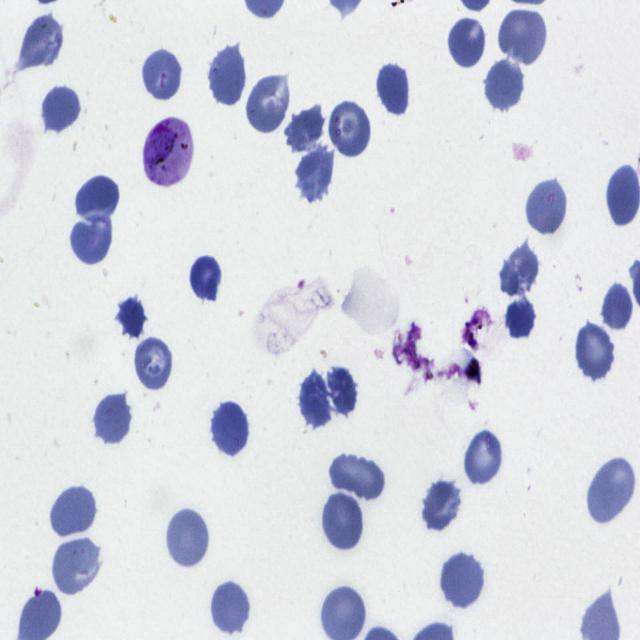difficult: (143, 119, 195, 189)
red blood cell: (586, 456, 636, 526), (50, 534, 101, 598), (498, 4, 548, 66), (165, 505, 211, 571), (246, 70, 292, 135), (320, 490, 366, 554), (439, 550, 486, 611), (329, 450, 384, 502), (327, 98, 373, 160), (207, 41, 248, 109), (18, 12, 65, 71), (524, 175, 568, 238), (49, 483, 98, 538), (574, 320, 616, 384), (69, 208, 114, 267), (209, 577, 252, 637), (498, 240, 541, 300), (483, 56, 527, 114), (74, 174, 122, 227), (141, 46, 183, 105), (294, 144, 336, 203), (210, 399, 251, 458), (91, 390, 134, 446), (464, 428, 504, 487), (422, 480, 464, 534), (605, 163, 640, 227), (297, 367, 332, 430), (134, 336, 174, 391), (448, 16, 488, 70), (41, 82, 82, 134), (375, 61, 412, 118), (283, 102, 325, 152), (322, 364, 360, 417), (600, 279, 634, 336), (189, 252, 223, 305), (502, 294, 538, 342), (115, 294, 147, 339)
